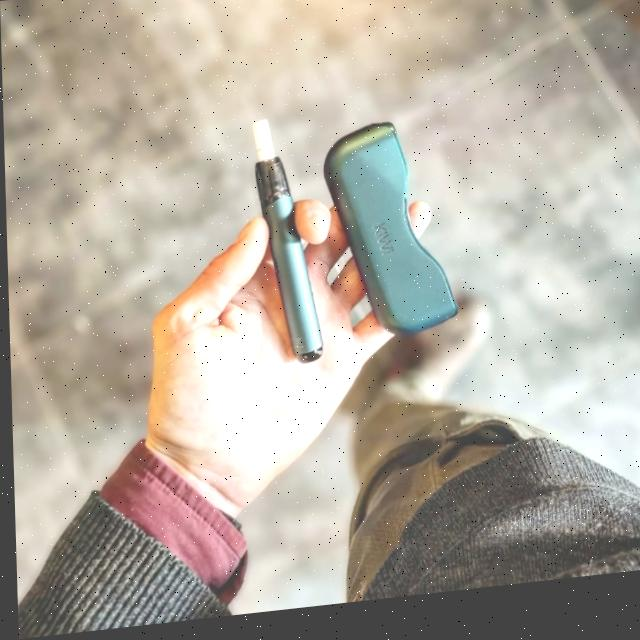vape: (250, 120, 322, 375)
